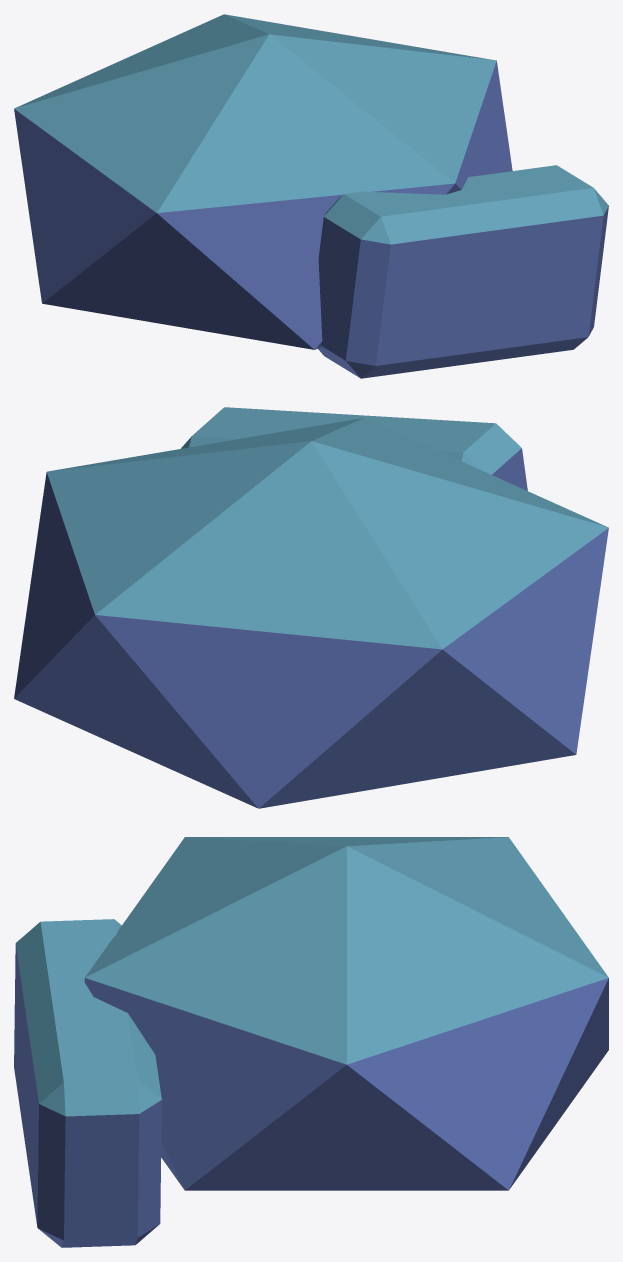
The model's file is npc_module_hair_5_v01.glb.
The picture shows the model from 3 angles, top to bottom: view 1: azimuth 30°, elevation 25°; view 2: azimuth 150°, elevation 25°; view 3: azimuth 270°, elevation 25°; orthographic projection. The views are drawn at different scales.
Visible parts, largest first — view 1: GEO_npc_module_hair_5_v01; view 2: GEO_npc_module_hair_5_v01; view 3: GEO_npc_module_hair_5_v01.
Part boxes in pixels (<box>): GEO_npc_module_hair_5_v01: <box>14,14,608,378</box>; GEO_npc_module_hair_5_v01: <box>14,407,608,808</box>; GEO_npc_module_hair_5_v01: <box>14,837,608,1247</box>.
Size of the model in its own units: 0.966 by 0.6 by 0.9653.
